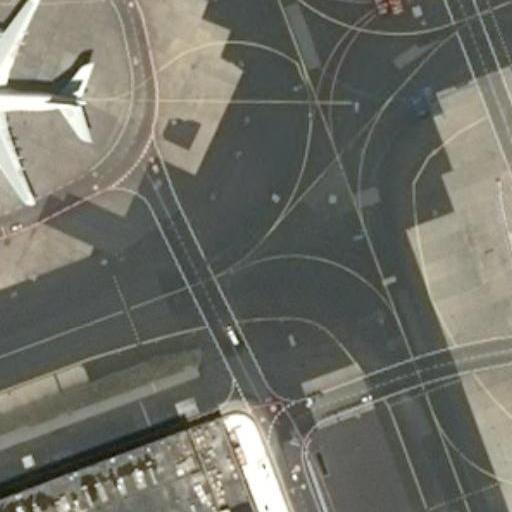Aircraft: (0, 0, 97, 204)
